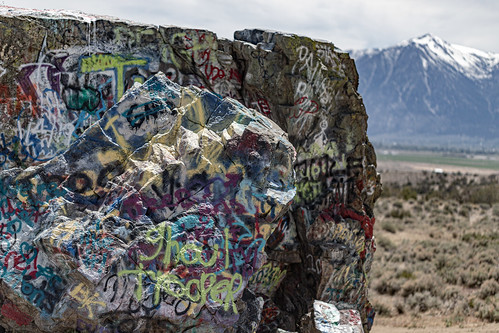graffiti: (1, 46, 356, 333)
mountain: (351, 25, 499, 82)
rocks: (1, 44, 363, 333)
sky: (129, 1, 499, 34)
